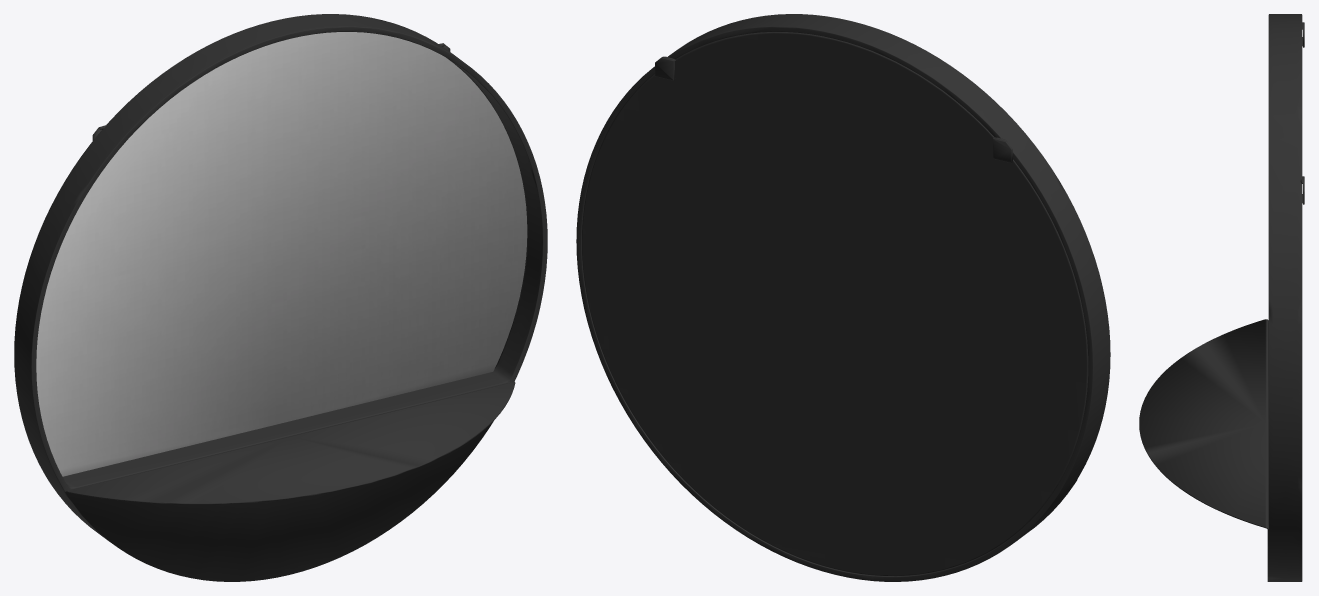
File: B084HTZ8PW.glb
3 views of the same model, side by side, from view 1: azimuth 30°, elevation 25°; view 2: azimuth 150°, elevation 25°; view 3: azimuth 270°, elevation 25° (orthographic). The views are drawn at different scales.
Visible parts, largest first — view 1: RootNode; view 2: RootNode; view 3: RootNode.
Boxes of the visible parts, left/top/right/bottom form: RootNode: left=14, top=14, right=547, bottom=581; RootNode: left=576, top=14, right=1110, bottom=581; RootNode: left=1139, top=14, right=1304, bottom=581.
Bounding box in the file's own units: 0.4572 × 0.4572 × 0.1333.
Materials: 1 (1 with a texture image).
